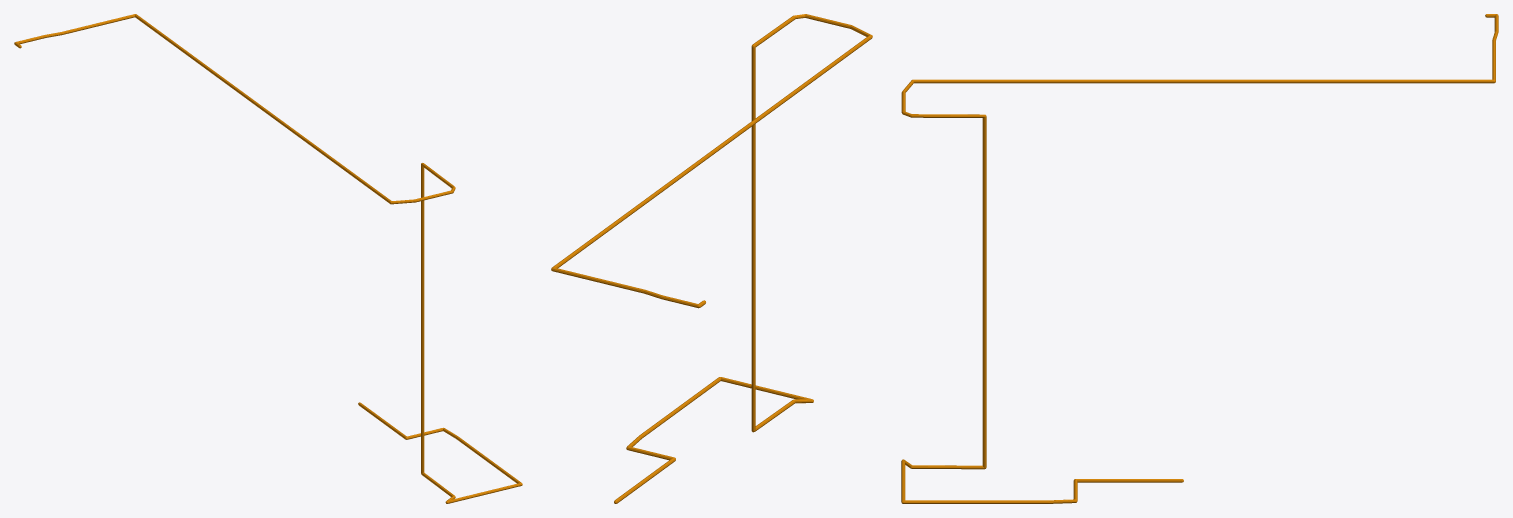
The picture shows the model from 3 angles, left to right: view 1: azimuth 30°, elevation 25°; view 2: azimuth 150°, elevation 25°; view 3: azimuth 270°, elevation 25°; orthographic projection. The views are drawn at different scales.
Bounding box in the file's own units: 1672 × 2020 × 3083.
